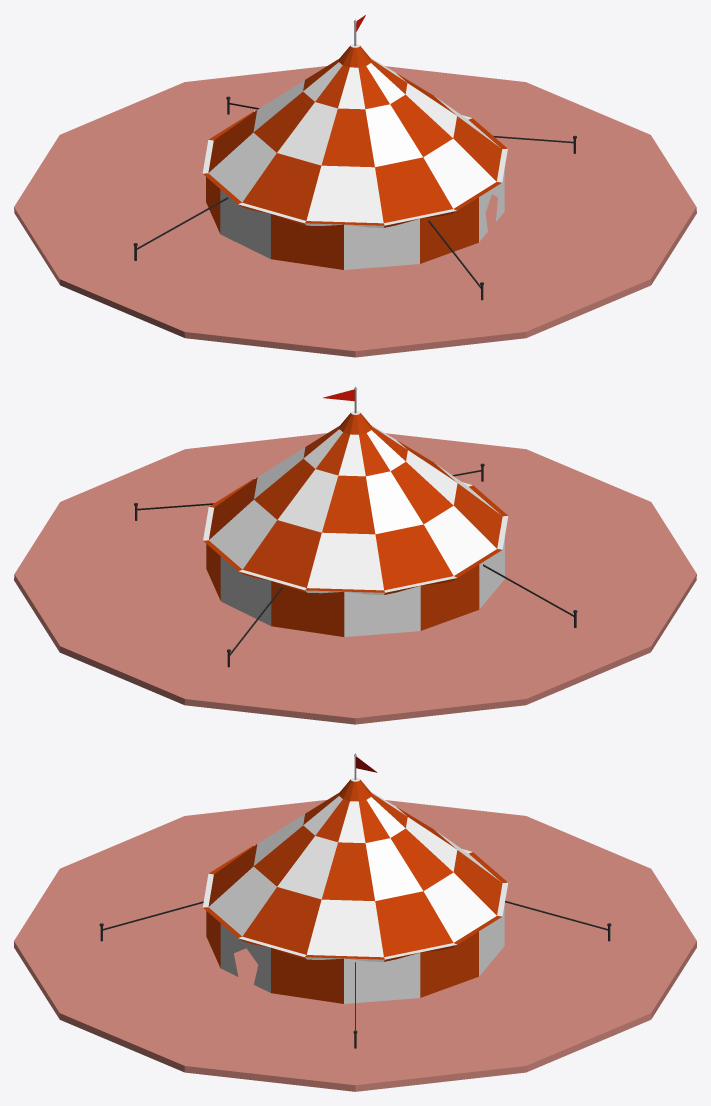
The model's file is TENT1.fbx.
3 views of the same model, one above another, from view 1: azimuth 30°, elevation 25°; view 2: azimuth 150°, elevation 25°; view 3: azimuth 270°, elevation 25° (orthographic).
Visible parts, largest first — view 1: Circle, Cylinder.001, Cylinder, Cylinder.003; view 2: Circle, Cylinder.001, Cylinder, Cylinder.003; view 3: Circle, Cylinder.001, Cylinder, Cylinder.003.
Boxes of the visible parts, box(x1,y1,x2,y2) form: Circle: box(14, 66, 696, 357); Cylinder.001: box(202, 44, 507, 227); Cylinder: box(206, 169, 504, 269); Cylinder.003: box(133, 96, 576, 300); Circle: box(14, 433, 696, 724); Cylinder.001: box(203, 411, 508, 594); Cylinder: box(206, 537, 504, 636); Cylinder.003: box(134, 463, 577, 667); Circle: box(14, 799, 696, 1091); Cylinder.001: box(202, 777, 507, 961); Cylinder: box(206, 905, 504, 1003); Cylinder.003: box(99, 900, 611, 1048).
Bounding box in the file's own units: 1034 × 324 × 1033.
